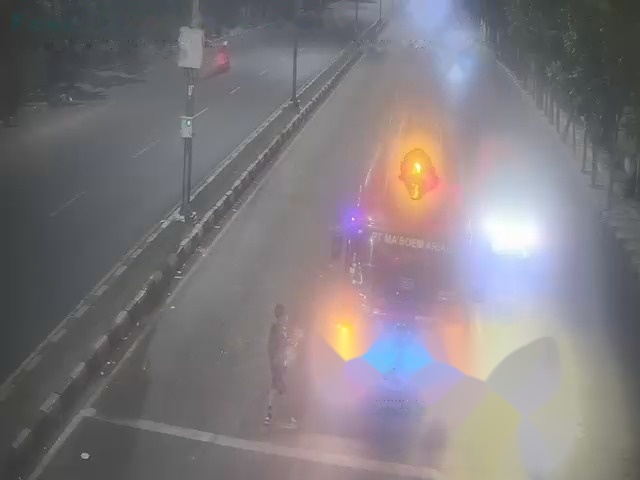Mobil: (481, 176, 542, 266)
Motor: (216, 55, 229, 69)
Truk: (340, 88, 479, 406)
